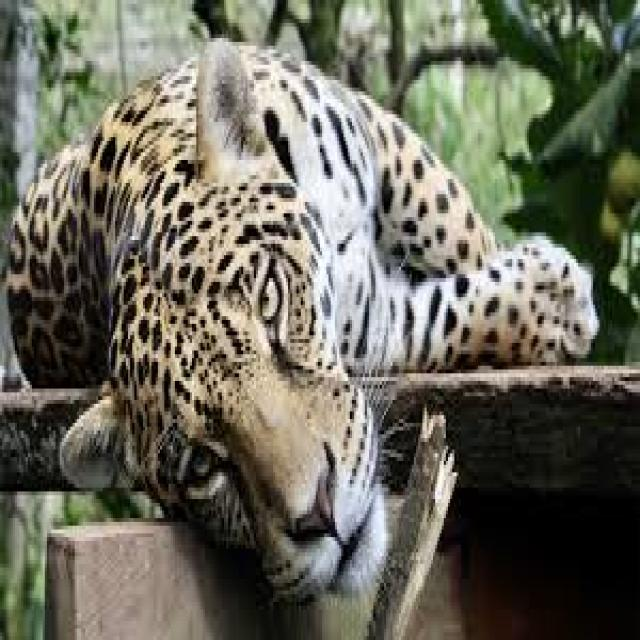Jaguar: (6, 38, 602, 613)
